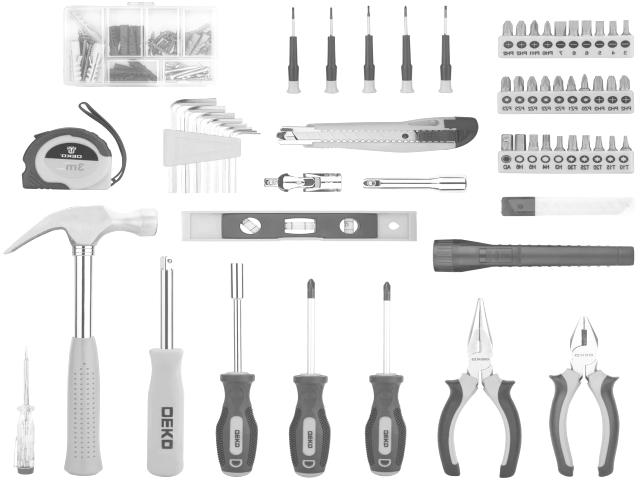Hammer: (5, 205, 158, 475)
Needle-nose pliers: (438, 298, 521, 478)
Pliers: (549, 316, 619, 476)
Screwdriver: (216, 263, 258, 476), (289, 279, 330, 477), (365, 282, 406, 476), (148, 256, 184, 476), (13, 346, 35, 474), (438, 6, 453, 92), (400, 6, 414, 93), (362, 6, 376, 93), (325, 7, 339, 93), (288, 8, 300, 93)
Tape measure: (22, 102, 126, 190)
Utility knife: (276, 117, 479, 152)
